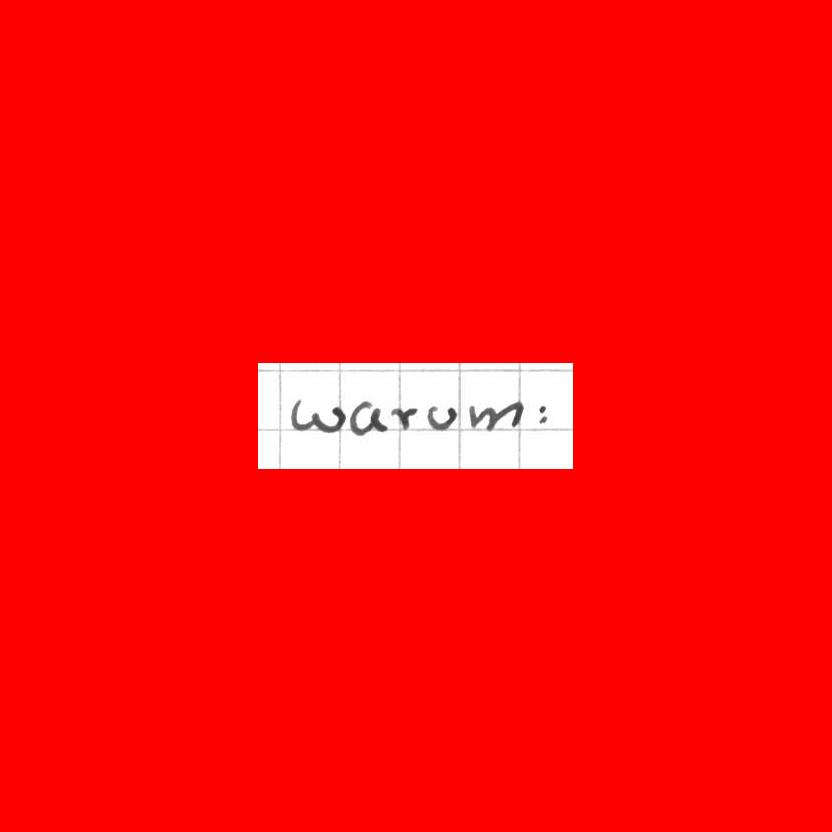Char: (289, 395, 346, 434), (466, 398, 525, 432), (348, 400, 389, 438), (426, 403, 455, 433), (389, 403, 417, 432), (533, 401, 550, 425)
